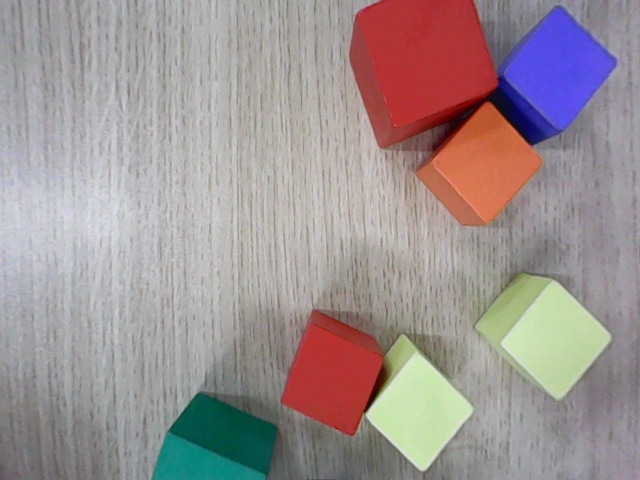upside of big cube: (354, 0, 499, 129), (148, 433, 268, 479)
upside of small cube: (502, 5, 619, 132), (499, 278, 616, 404), (430, 100, 545, 226), (365, 350, 476, 474), (281, 324, 383, 437)
